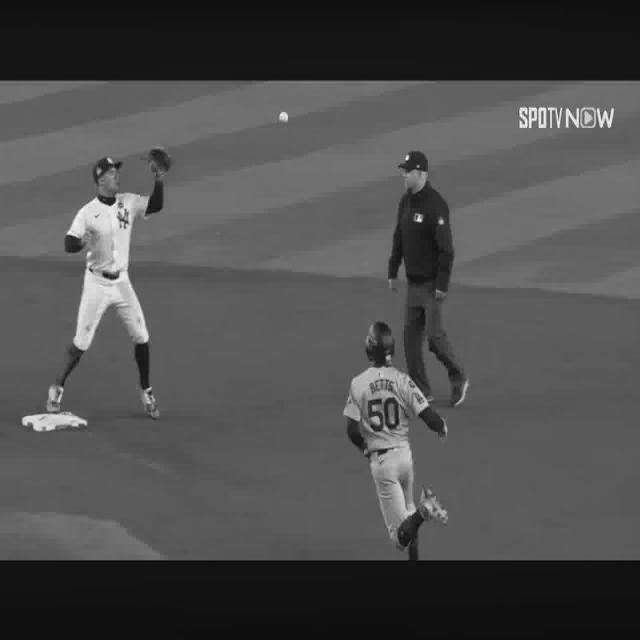base: (21, 412, 88, 432)
baseball: (278, 110, 288, 122)
baseball_glove: (149, 147, 171, 178)
shoe: (418, 488, 448, 522), (450, 372, 469, 407), (142, 388, 160, 418), (46, 385, 64, 413)
